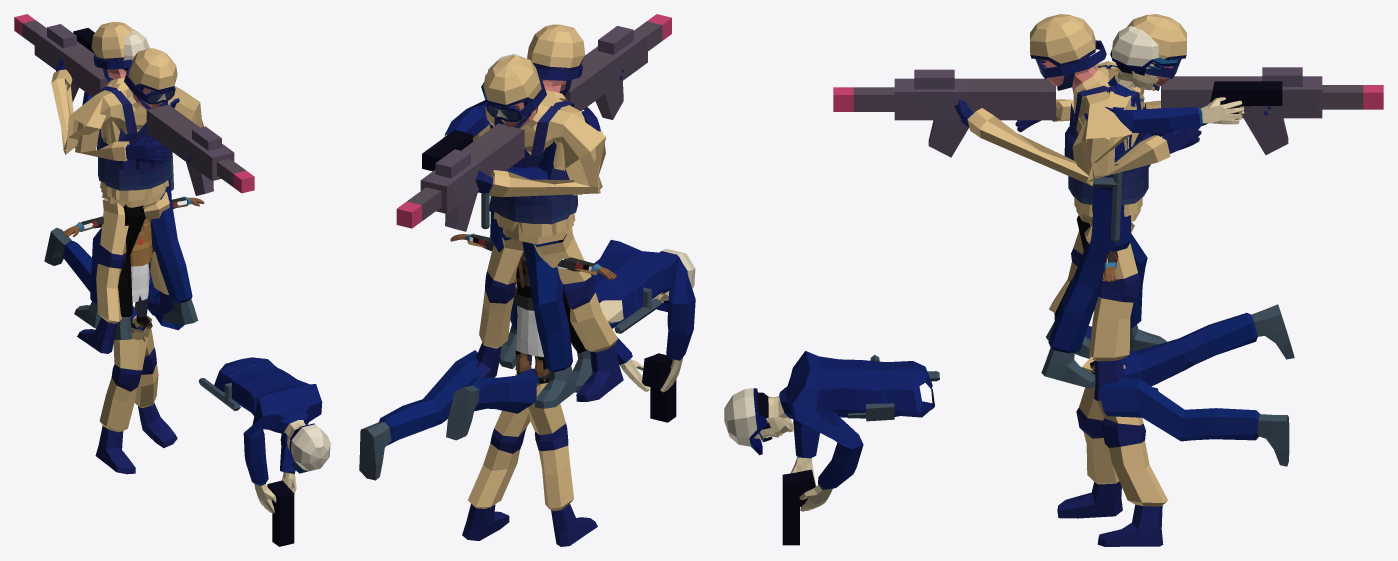
The model's file is humans.gltf.
3 views of the same model, side by side, from view 1: azimuth 30°, elevation 25°; view 2: azimuth 150°, elevation 25°; view 3: azimuth 270°, elevation 25° (orthographic). The views are drawn at different scales.
Parts seen in each view (by area): view 1: enemy_soldier, military_assembled, enemy_cop, police_assembled, enemy_soldier_002, police_japan_assembled, enemy_soldier_001, enemy_cop_japan, enemy_cop_002, man_carpenter, man_scientist, enemy_cop_001; view 2: military_assembled, enemy_soldier, enemy_cop, police_assembled, enemy_cop_001, enemy_soldier_002, enemy_soldier_001, enemy_cop_002, police_japan_assembled, man_scientist, enemy_cop_japan, man_business (+2 smaller); view 3: enemy_soldier, military_assembled, enemy_cop, police_assembled, enemy_cop_001, enemy_cop_002, enemy_soldier_001, enemy_soldier_002, police_japan_assembled, enemy_cop_japan.
Boxes of the visible parts, x1=… form: enemy_soldier: x1=75, y1=48, x2=254, y2=207; military_assembled: x1=14, y1=14, x2=173, y2=353; enemy_cop: x1=214, y1=357, x2=322, y2=546; police_assembled: x1=73, y1=28, x2=198, y2=328; enemy_soldier_002: x1=95, y1=315, x2=151, y2=474; police_japan_assembled: x1=114, y1=29, x2=173, y2=339; enemy_soldier_001: x1=131, y1=315, x2=177, y2=447; enemy_cop_japan: x1=198, y1=378, x2=330, y2=473; enemy_cop_002: x1=44, y1=227, x2=144, y2=330; man_carpenter: x1=91, y1=201, x2=178, y2=328; man_scientist: x1=76, y1=196, x2=191, y2=302; enemy_cop_001: x1=147, y1=272, x2=184, y2=330; military_assembled: x1=396, y1=55, x2=623, y2=401; enemy_soldier: x1=493, y1=14, x2=671, y2=235; enemy_cop: x1=590, y1=240, x2=695, y2=422; police_assembled: x1=422, y1=100, x2=576, y2=408; enemy_cop_001: x1=359, y1=350, x2=479, y2=480; enemy_soldier_002: x1=527, y1=382, x2=597, y2=546; enemy_soldier_001: x1=462, y1=373, x2=545, y2=540; enemy_cop_002: x1=446, y1=368, x2=539, y2=440; police_japan_assembled: x1=481, y1=54, x2=592, y2=392; man_scientist: x1=465, y1=233, x2=601, y2=377; enemy_cop_japan: x1=614, y1=248, x2=695, y2=333; man_business: x1=470, y1=234, x2=595, y2=379; enemy_soldier: x1=833, y1=14, x2=1132, y2=223; military_assembled: x1=1049, y1=14, x2=1383, y2=400; enemy_cop: x1=753, y1=351, x2=934, y2=545; police_assembled: x1=1041, y1=63, x2=1282, y2=388; enemy_cop_001: x1=1098, y1=378, x2=1289, y2=466; enemy_cop_002: x1=1122, y1=304, x2=1294, y2=386; enemy_soldier_001: x1=1082, y1=357, x2=1167, y2=546; enemy_soldier_002: x1=1057, y1=361, x2=1122, y2=518; police_japan_assembled: x1=1046, y1=25, x2=1176, y2=360; enemy_cop_japan: x1=724, y1=355, x2=939, y2=455.
Size of the model in its own units: 1.96 by 5.37 by 6.24.
Materials: 5 (4 with a texture image).
